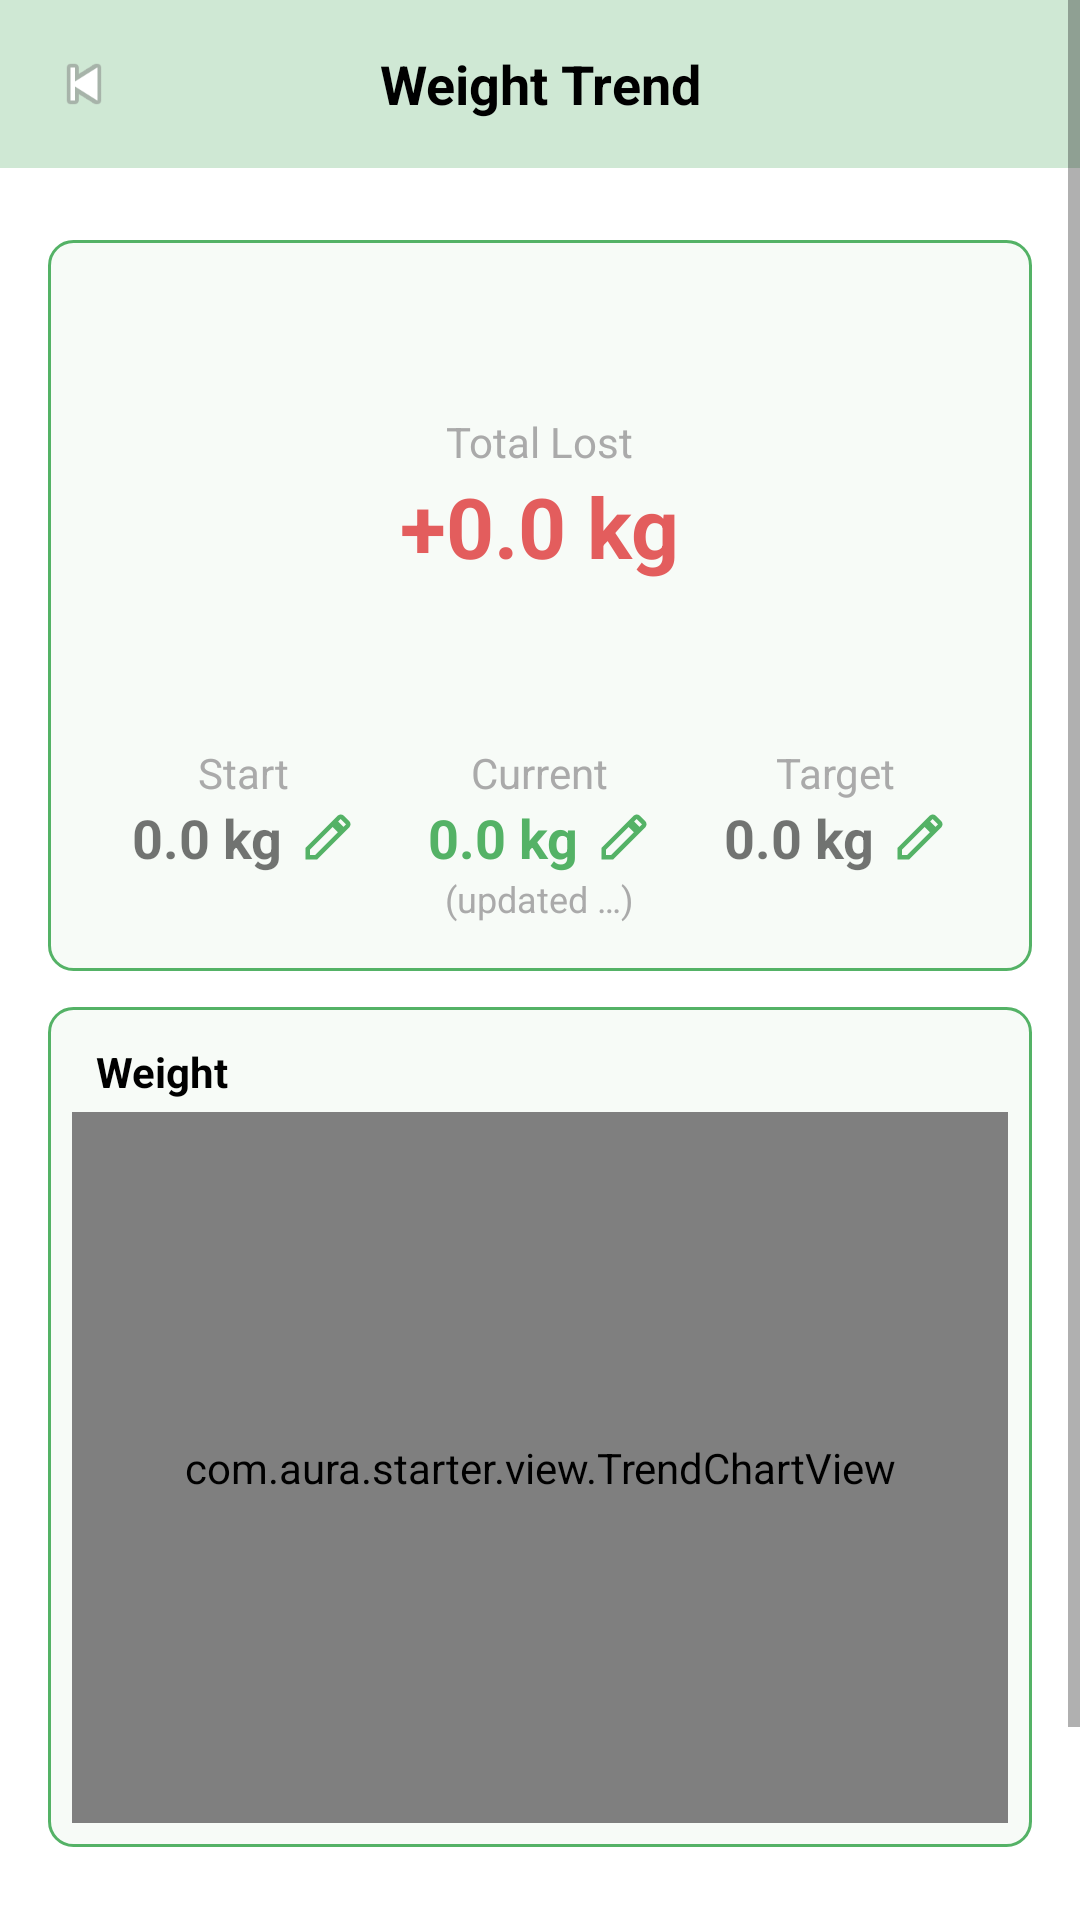

Locate icon controls on the screen. Image size 1080*1920, boxes as (x1, y1, x2, y2).
previous: (67, 64, 101, 104)
